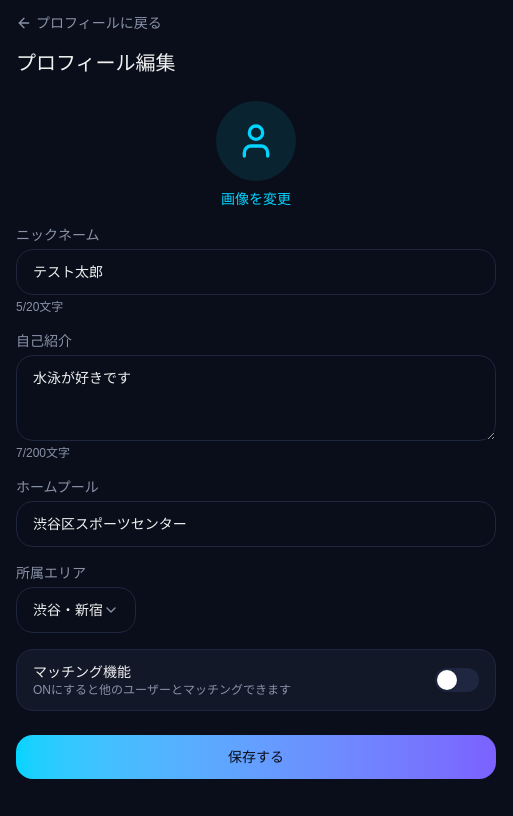
Test case: ProfileEditPage › ニックネームが空で保存するとエラーが表示される
Clear the field labelled "ニックネーム" at coordinates (256, 272), box [16,249,496,295]
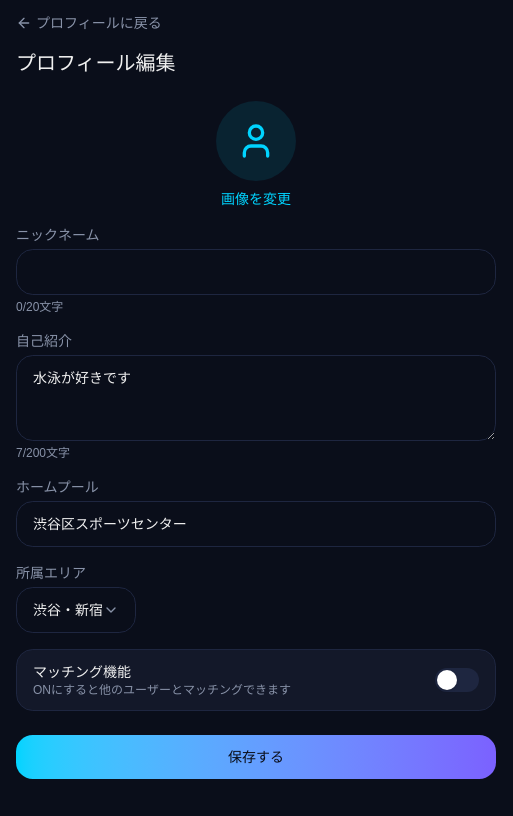
Submit the form from the button "保存する", box [16,735,496,779]
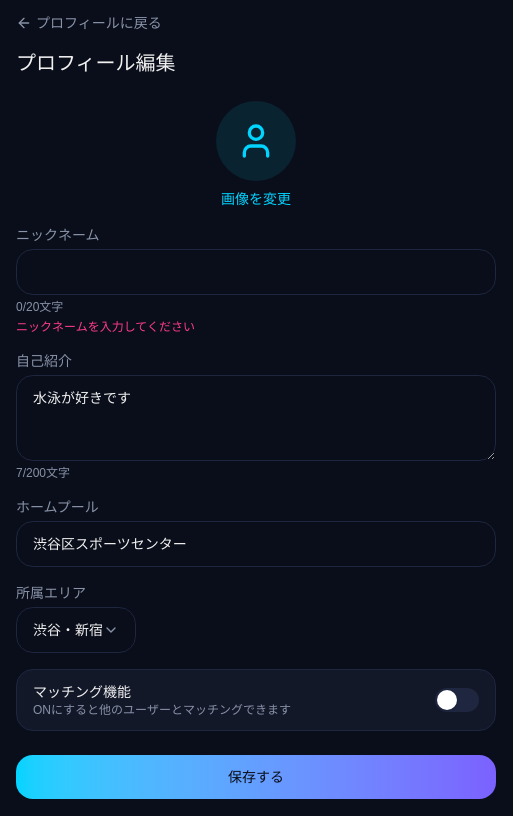
Now the text "ニックネームを入力してください" is shown, box [16,320,195,334]
